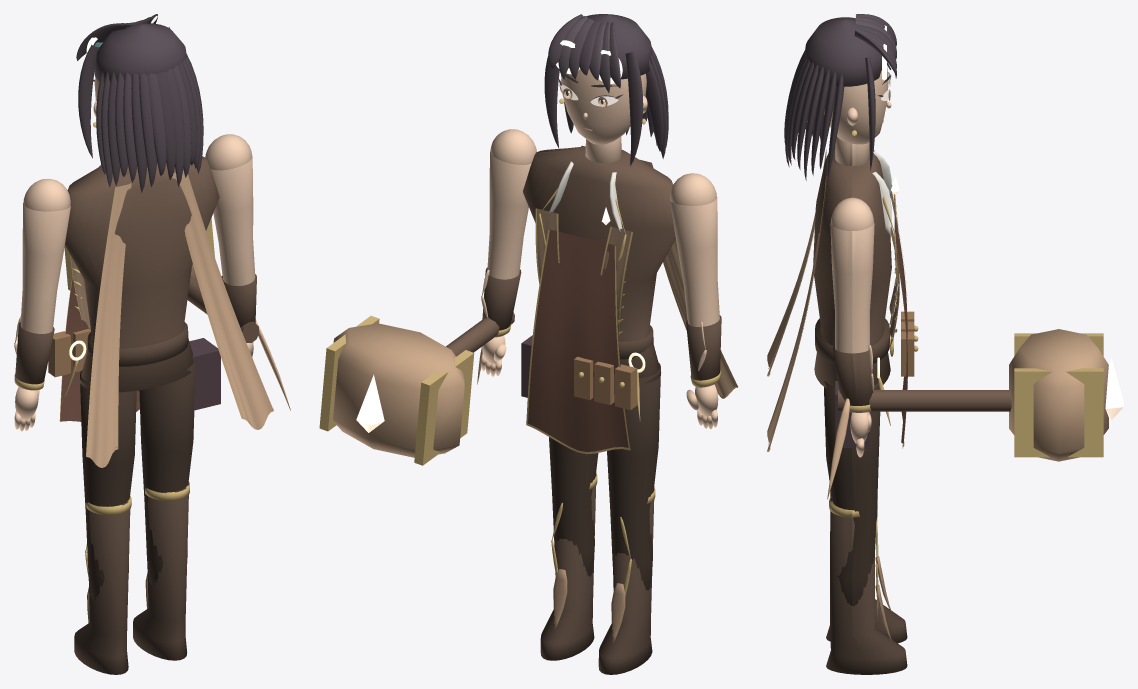
The model's file is character_18.glb.
3 views of the same model, side by side, from view 1: azimuth 30°, elevation 25°; view 2: azimuth 150°, elevation 25°; view 3: azimuth 270°, elevation 25° (orthographic).
Parts seen in each view (by area): view 1: _MeshInstance3D_5329, _MeshInstance3D_5383, _MeshInstance3D_5353, _MeshInstance3D_5357, _MeshInstance3D_5345, _MeshInstance3D_5358, _MeshInstance3D_5350, _MeshInstance3D_5347, _MeshInstance3D_5361, _MeshInstance3D_5349, _MeshInstance3D_5384, _MeshInstance3D_5385 (+9 smaller); view 2: _MeshInstance3D_5333, _MeshInstance3D_5329, _MeshInstance3D_5364, _MeshInstance3D_5349, _MeshInstance3D_5353, _MeshInstance3D_5361, _MeshInstance3D_5383, _MeshInstance3D_5357, _MeshInstance3D_5358, _MeshInstance3D_5350, _MeshInstance3D_5367, _MeshInstance3D_5370 (+16 smaller); view 3: _MeshInstance3D_5329, _MeshInstance3D_5364, _MeshInstance3D_5383, _MeshInstance3D_5361, _MeshInstance3D_5358, _MeshInstance3D_5357, _MeshInstance3D_5367, _MeshInstance3D_5363, _MeshInstance3D_5370, _MeshInstance3D_5362, _MeshInstance3D_5384, _MeshInstance3D_5385 (+11 smaller).
Boxes of the visible parts, x1=… form: _MeshInstance3D_5329: x1=65, y1=156, x2=219, y2=392; _MeshInstance3D_5383: x1=76, y1=14, x2=203, y2=187; _MeshInstance3D_5353: x1=14, y1=178, x2=70, y2=431; _MeshInstance3D_5357: x1=139, y1=362, x2=195, y2=586; _MeshInstance3D_5345: x1=86, y1=183, x2=131, y2=467; _MeshInstance3D_5358: x1=133, y1=483, x2=188, y2=660; _MeshInstance3D_5350: x1=74, y1=501, x2=130, y2=674; _MeshInstance3D_5347: x1=172, y1=171, x2=273, y2=429; _MeshInstance3D_5361: x1=205, y1=134, x2=255, y2=358; _MeshInstance3D_5349: x1=80, y1=370, x2=136, y2=600; _MeshInstance3D_5384: x1=96, y1=58, x2=201, y2=186; _MeshInstance3D_5385: x1=107, y1=54, x2=203, y2=192; _MeshInstance3D_5333: x1=528, y1=229, x2=630, y2=451; _MeshInstance3D_5329: x1=523, y1=146, x2=675, y2=383; _MeshInstance3D_5364: x1=333, y1=323, x2=464, y2=457; _MeshInstance3D_5349: x1=607, y1=363, x2=660, y2=590; _MeshInstance3D_5353: x1=670, y1=173, x2=719, y2=429; _MeshInstance3D_5361: x1=481, y1=129, x2=536, y2=376; _MeshInstance3D_5383: x1=544, y1=14, x2=666, y2=165; _MeshInstance3D_5357: x1=549, y1=437, x2=598, y2=576; _MeshInstance3D_5358: x1=540, y1=474, x2=596, y2=660; _MeshInstance3D_5350: x1=598, y1=489, x2=654, y2=674; _MeshInstance3D_5367: x1=319, y1=315, x2=511, y2=465; _MeshInstance3D_5370: x1=559, y1=67, x2=647, y2=144; _MeshInstance3D_5329: x1=813, y1=145, x2=891, y2=388; _MeshInstance3D_5364: x1=1009, y1=329, x2=1108, y2=461; _MeshInstance3D_5383: x1=787, y1=14, x2=896, y2=180; _MeshInstance3D_5361: x1=830, y1=197, x2=874, y2=457; _MeshInstance3D_5358: x1=826, y1=498, x2=907, y2=674; _MeshInstance3D_5357: x1=824, y1=381, x2=880, y2=606; _MeshInstance3D_5367: x1=849, y1=333, x2=1103, y2=457; _MeshInstance3D_5363: x1=838, y1=390, x2=1011, y2=411; _MeshInstance3D_5370: x1=824, y1=65, x2=891, y2=144; _MeshInstance3D_5362: x1=833, y1=346, x2=873, y2=405; _MeshInstance3D_5384: x1=785, y1=56, x2=836, y2=169; _MeshInstance3D_5385: x1=784, y1=52, x2=829, y2=175.
Bounding box in the file's own units: 1.28 × 2.65 × 1.36.
